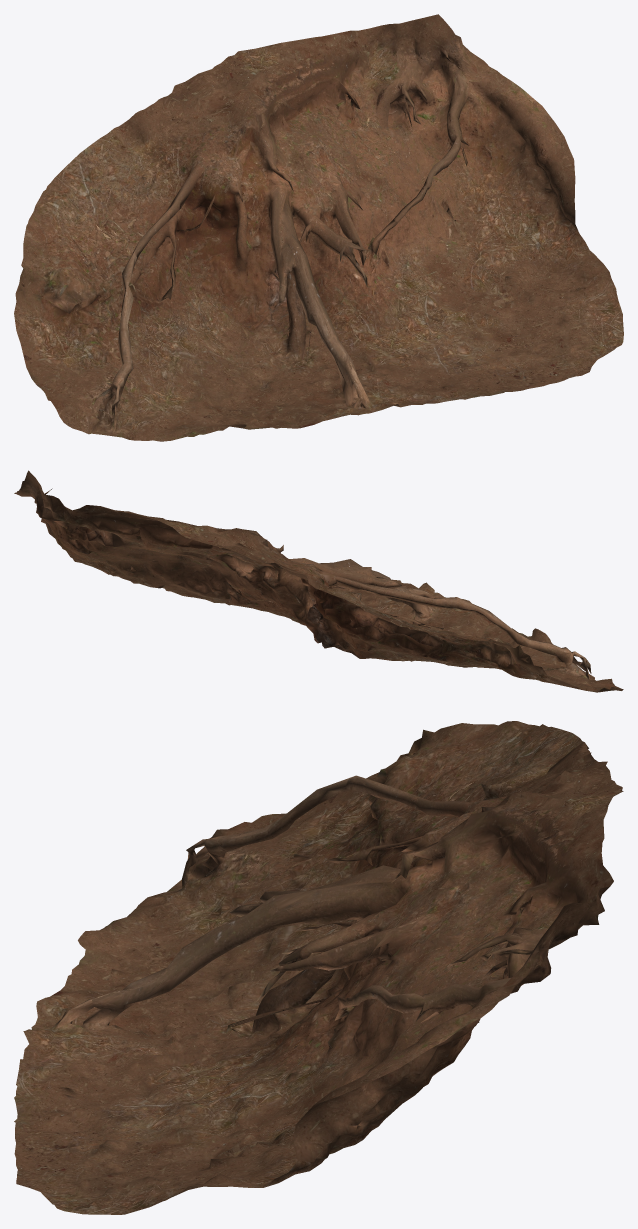
File: root_cluster.glb
The picture shows the model from 3 angles, top to bottom: view 1: azimuth 30°, elevation 25°; view 2: azimuth 150°, elevation 25°; view 3: azimuth 270°, elevation 25°; orthographic projection. The views are drawn at different scales.
Parts seen in each view (by area): view 1: root_cluster_01; view 2: root_cluster_01; view 3: root_cluster_01.
Boxes of the visible parts, box(x1,y1,x2,y2) form: root_cluster_01: box(14, 14, 623, 441); root_cluster_01: box(14, 470, 623, 692); root_cluster_01: box(14, 721, 623, 1214).
Size of the model in its own units: 4.12 by 1.51 by 2.69.
Materials: 1 (1 with a texture image).
